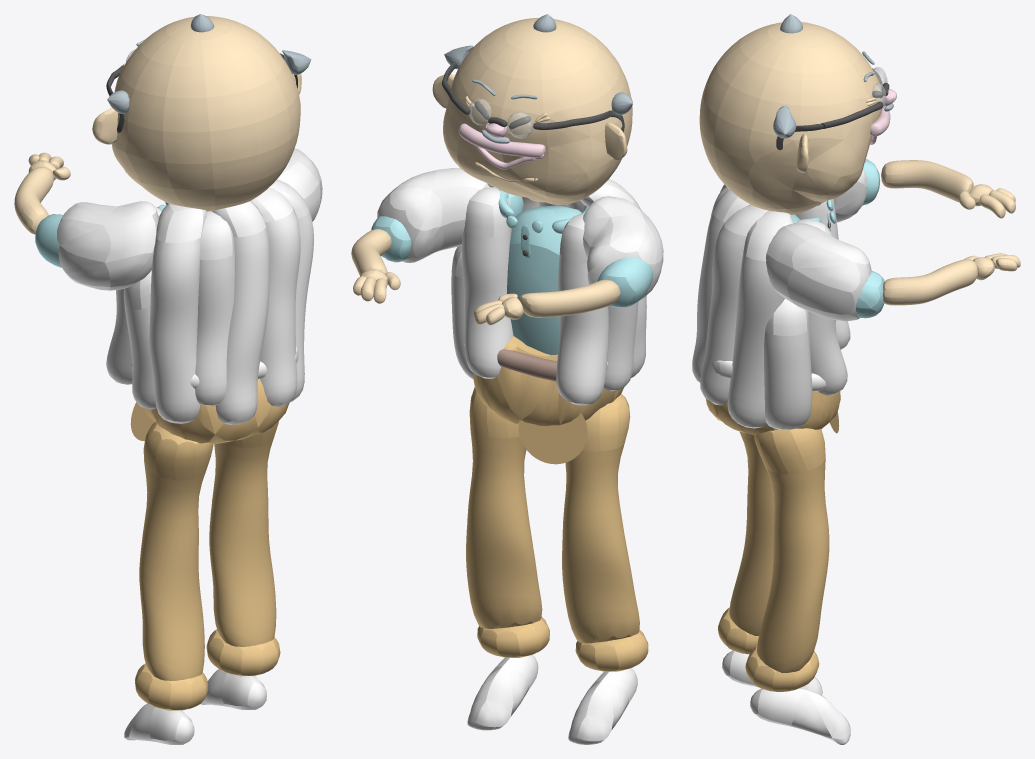
Rendered from Cientificoxd.fbx.
3 views of the same model, side by side, from view 1: azimuth 30°, elevation 25°; view 2: azimuth 150°, elevation 25°; view 3: azimuth 270°, elevation 25° (orthographic).
Parts seen in each view (by area): view 1: model; view 2: model; view 3: model.
Part boxes in pixels (x1,y1,x2,y2): model: (14,14,322,744); model: (351,14,663,744); model: (692,14,1020,744).
Size of the model in its own units: 40.48 by 103 by 43.14.
